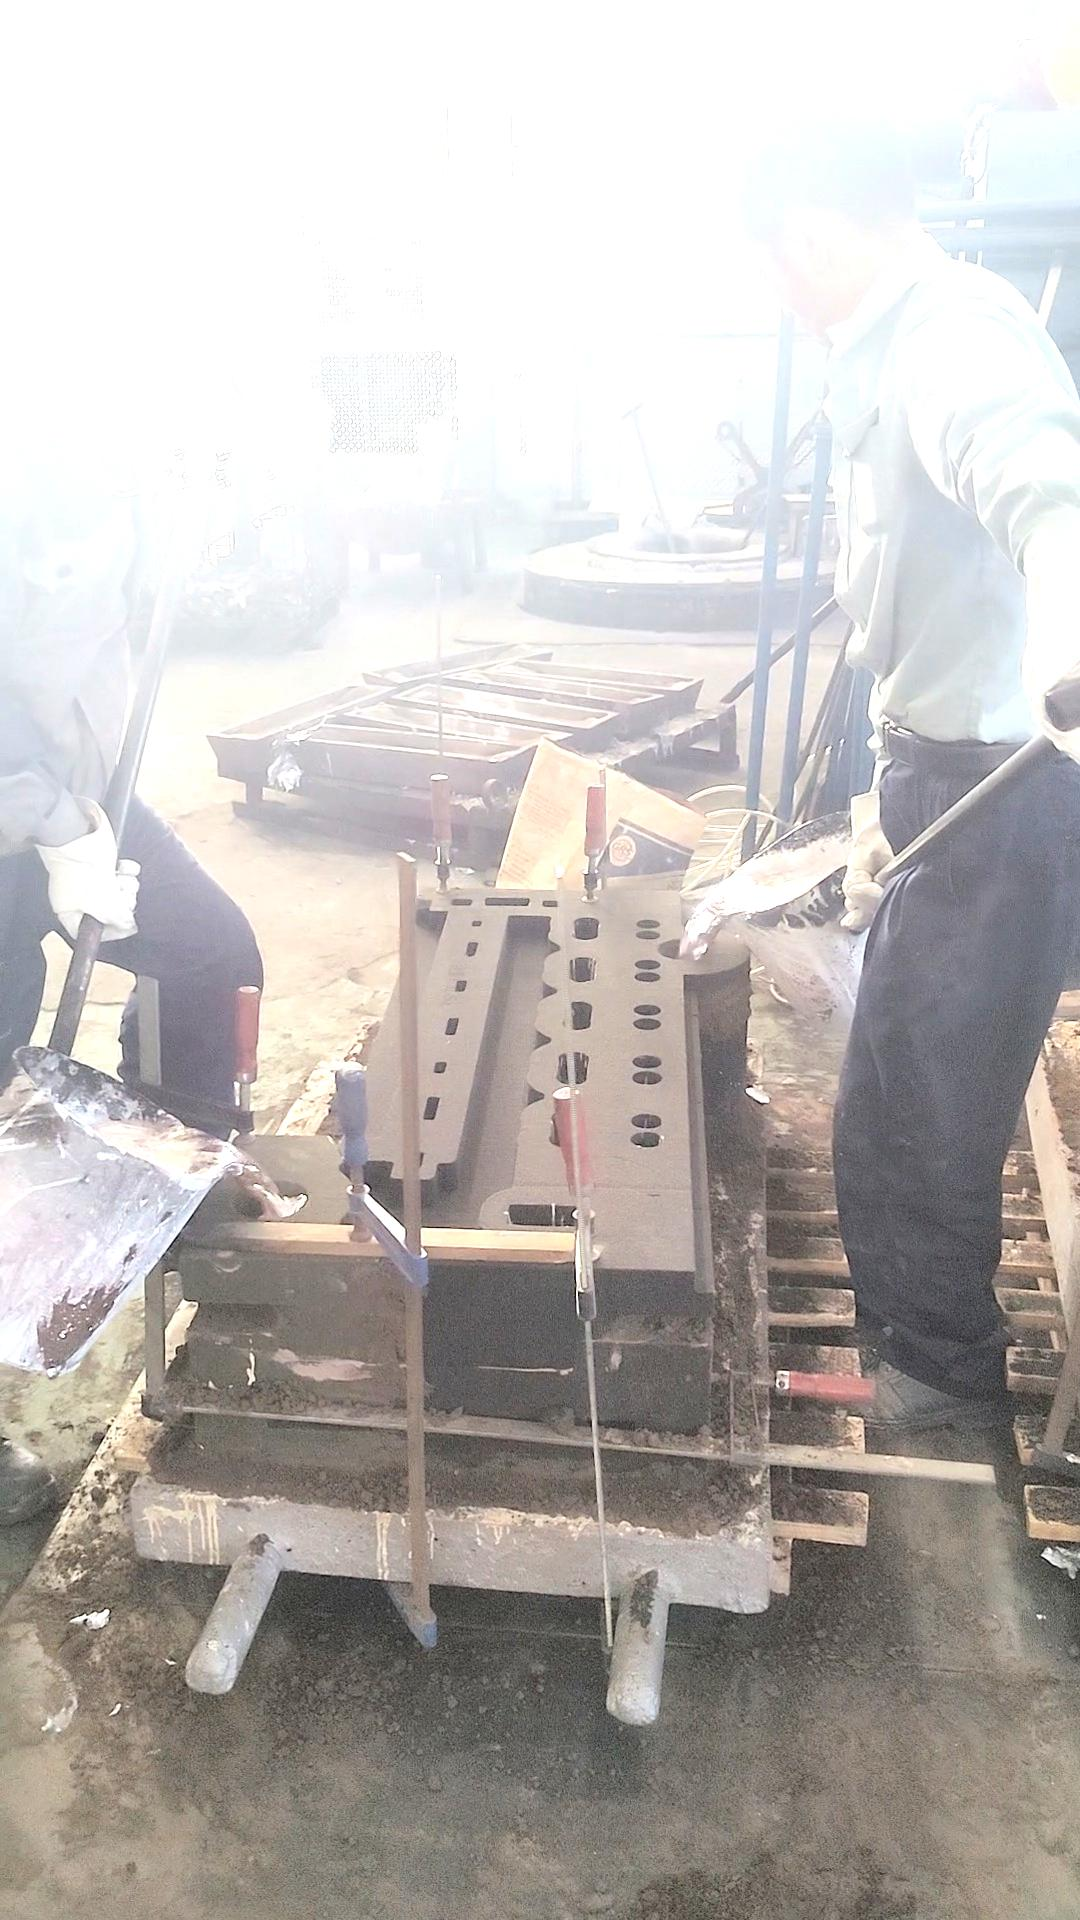pouring hole: (229, 1182, 310, 1218), (655, 936, 711, 957)
